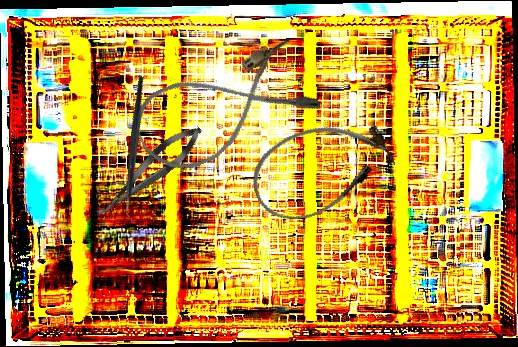Cannula: (125, 34, 324, 183), (240, 104, 403, 233)
Chopper: (79, 75, 194, 223)
Micro Scissor: (87, 118, 209, 227)
